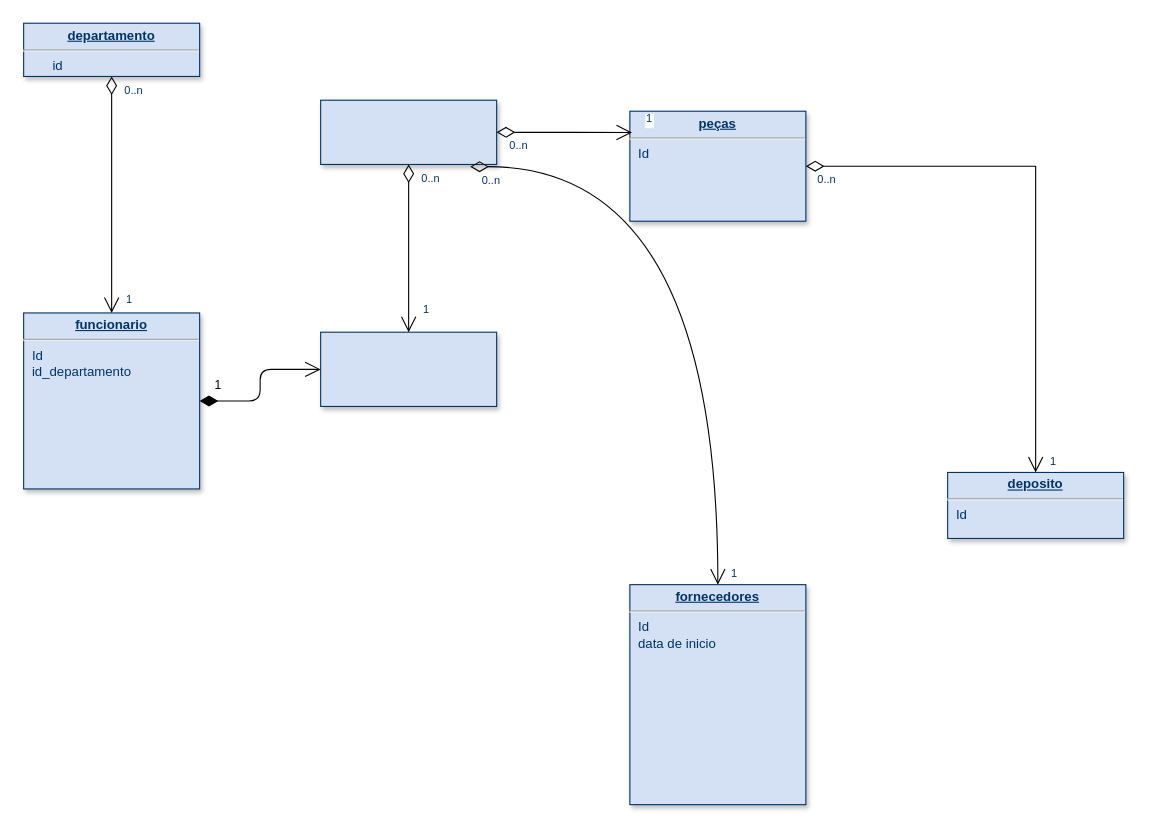
The diagram is 1150 pixels wide and 833 high, and some of its shapes have lost their labels. Here are the shapes that lost their labels. From the top down, the centre of each, then its label:
At point (409, 133): "projeto id".
At point (409, 370): "pertence id_funcionario id_projeto".
